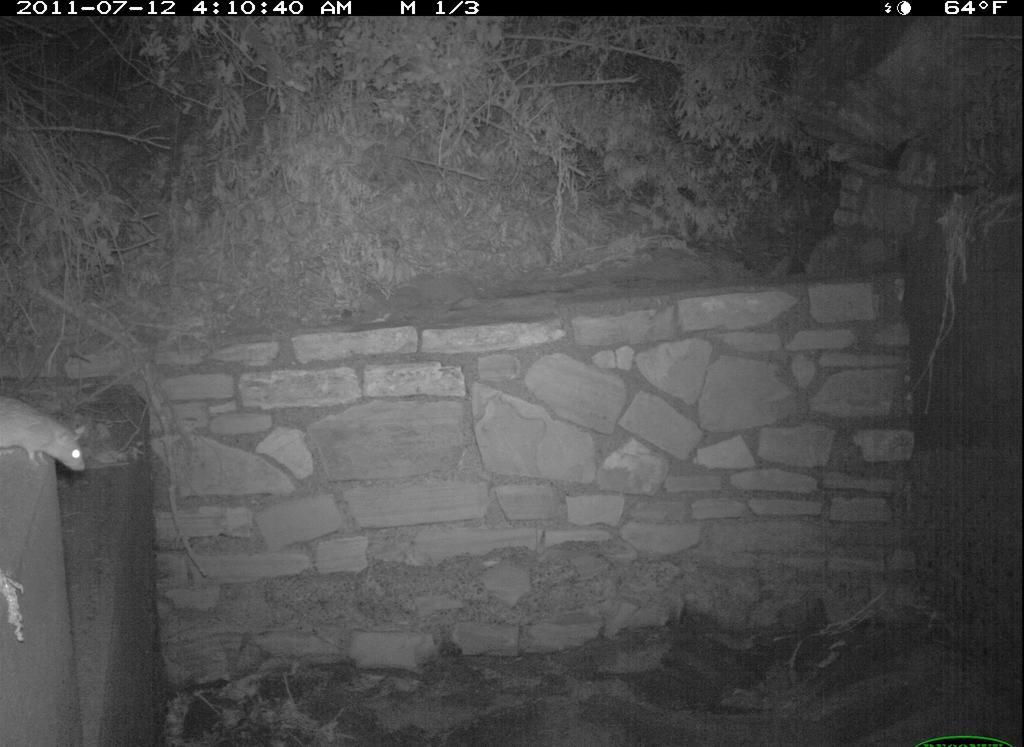rodent: (1, 387, 108, 491)
